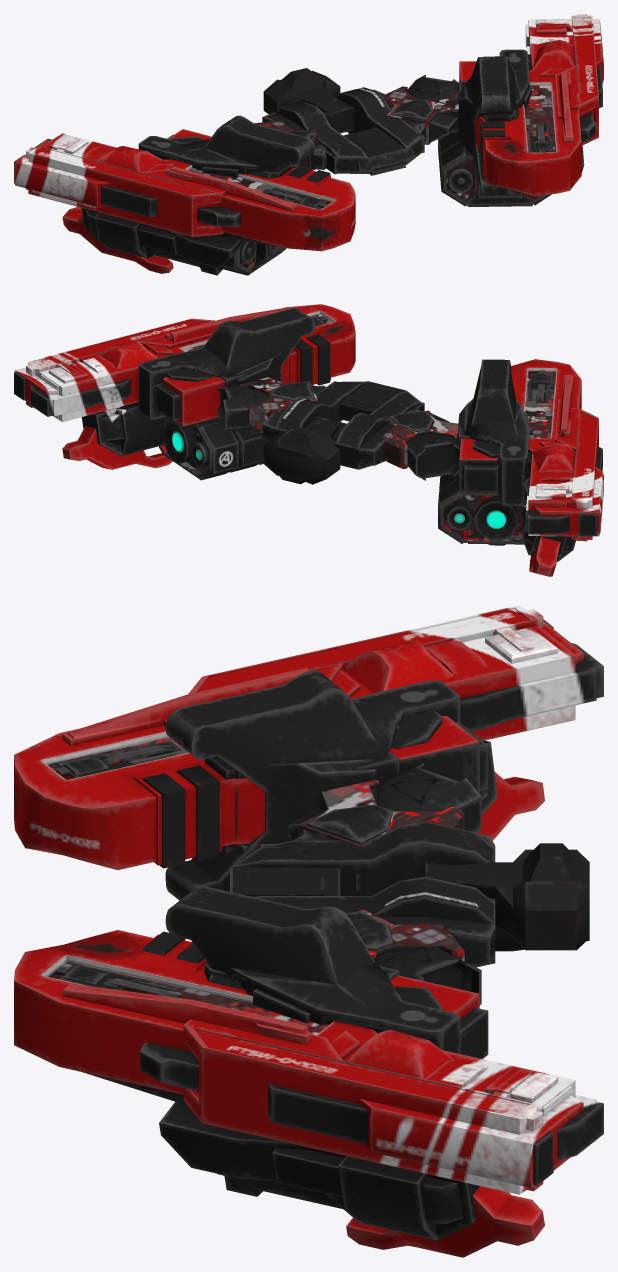
File: nave_vermelha.glb
The picture shows the model from 3 angles, top to bottom: view 1: azimuth 30°, elevation 25°; view 2: azimuth 150°, elevation 25°; view 3: azimuth 270°, elevation 25°; orthographic projection. The views are drawn at different scales.
Visible parts, largest first — view 1: Polygon; view 2: Polygon; view 3: Polygon.
Part boxes in pixels (x1,y1,x2,y2): Polygon: [14, 14, 603, 275]; Polygon: [14, 304, 603, 576]; Polygon: [14, 605, 603, 1257].
Size of the model in its own units: 6.36 by 1.51 by 2.97.
1 material, 1 textured.
